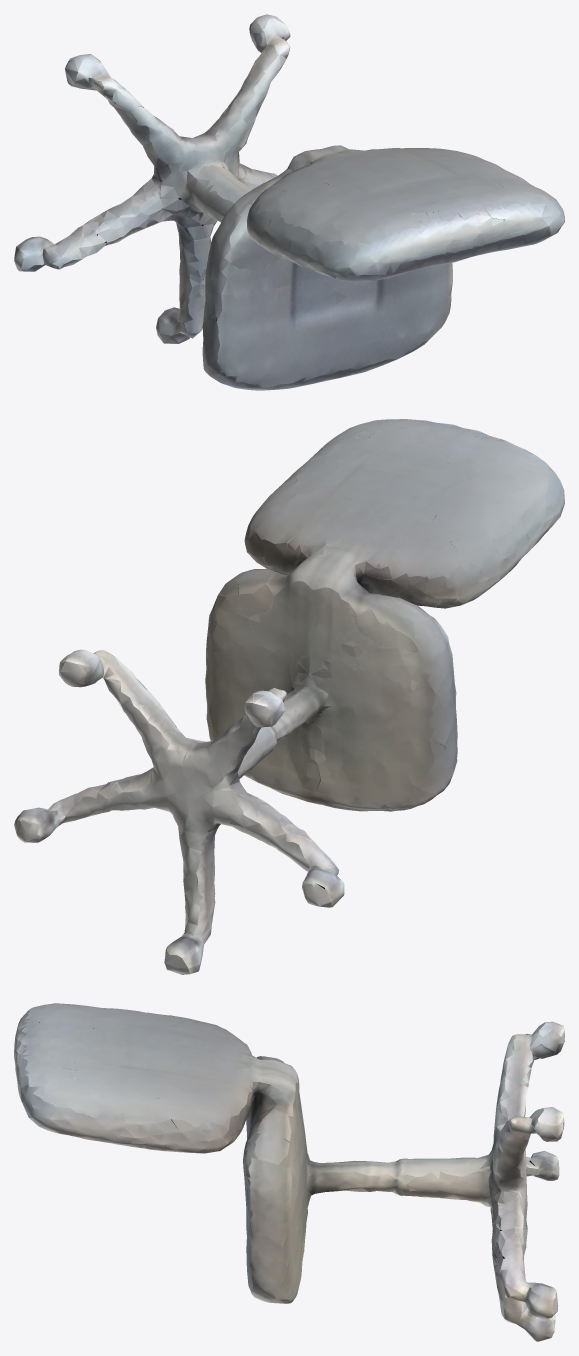
3 views of the same model, one above another, from view 1: azimuth 30°, elevation 25°; view 2: azimuth 150°, elevation 25°; view 3: azimuth 270°, elevation 25° (orthographic). The views are drawn at different scales.
Parts seen in each view (by area): view 1: world; view 2: world; view 3: world.
Boxes of the visible parts, x1,y1,x2,y2 form: world: (14,14,564,390); world: (14,419,564,974); world: (14,1003,564,1341).
Bounding box in the file's own units: 0.5558 × 0.5478 × 0.8933.
1 material, 1 textured.
